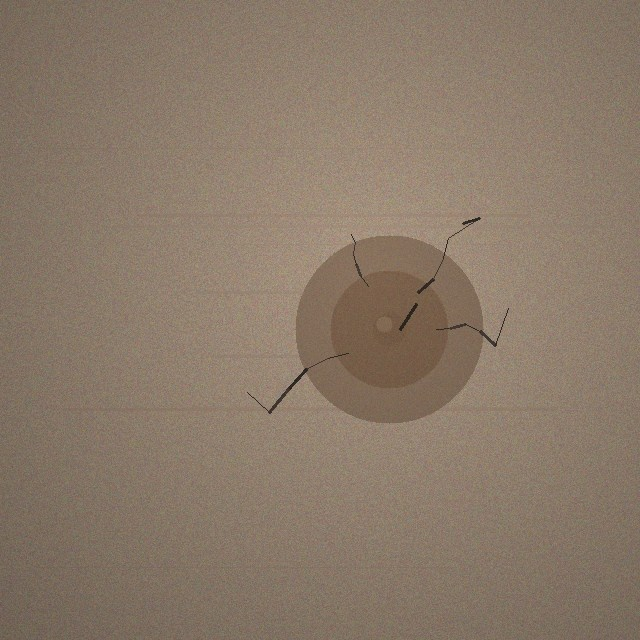crack: (295, 235, 483, 423)
